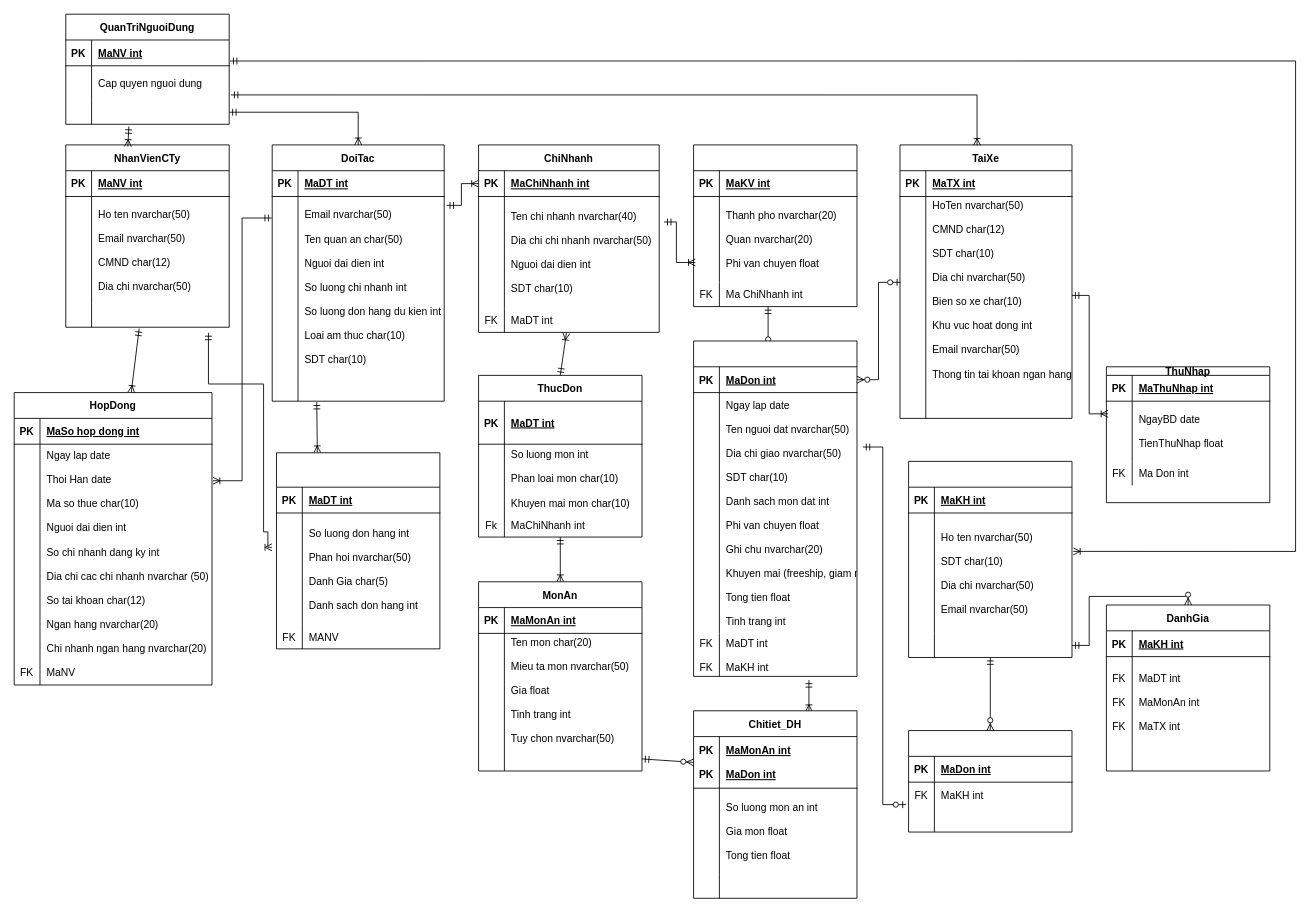
Image size: 1310x912. Some labels were removed from this diagram. The shapes that lost their labels are listed below. From the top down, each one's box as (x1, y1, x2, y2) in pixels, then its label:
(693, 144, 857, 307): KhuVuc
(693, 340, 857, 676): DonDatHang
(276, 452, 440, 649): SoLieuKinhDoanh
(908, 461, 1072, 657): KhachHang
(908, 730, 1072, 832): KH_DH
